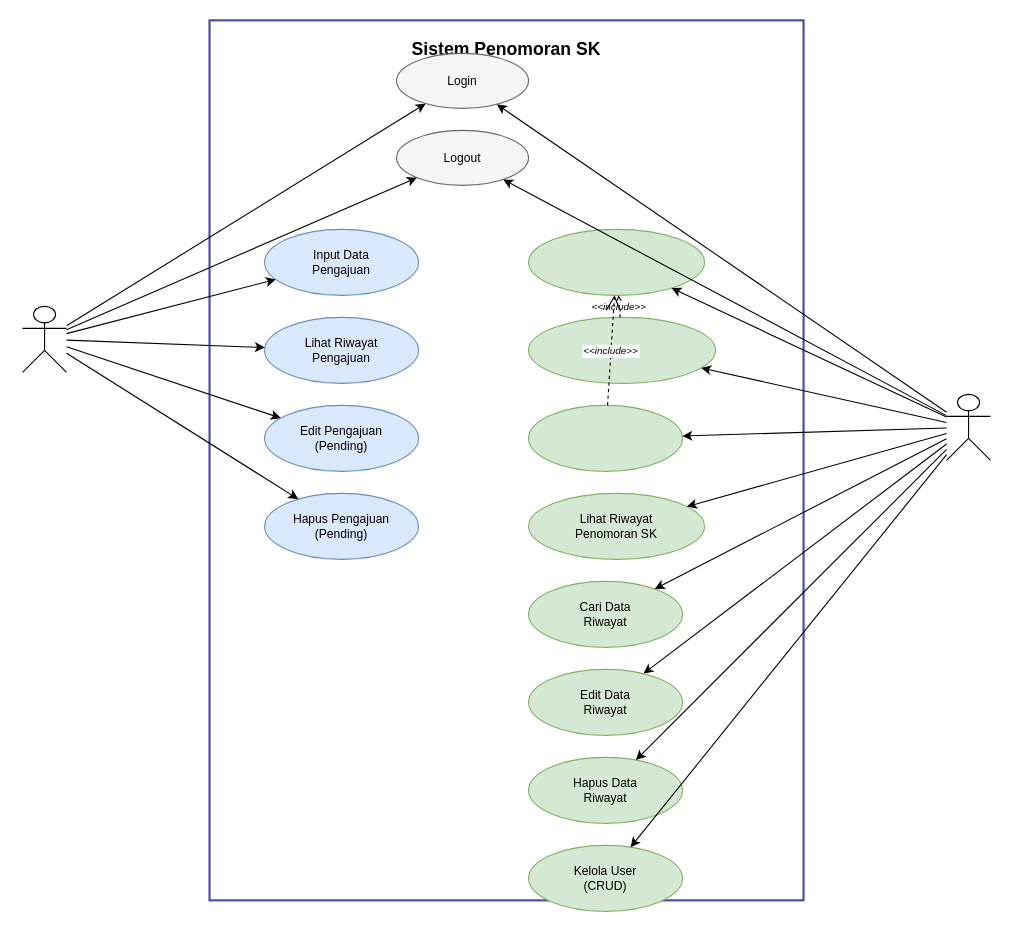
Image size: 1010x931. Some labels were removed from this diagram. Each missing label, with the box of its shape:
Admin: (945, 393, 991, 460)
Lihat Daftar Pengajuan Pending: (527, 228, 705, 295)
Petugas: (21, 305, 67, 372)
Terima Pengajuan (Generate Nomor SK): (527, 316, 716, 383)
Tolak Pengajuan: (527, 404, 683, 471)
